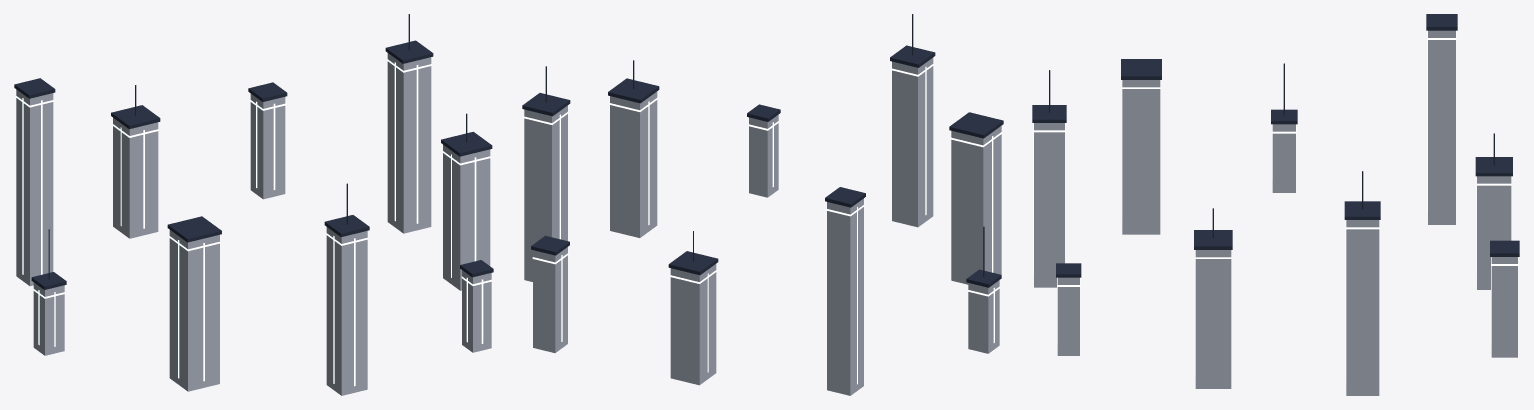
3 views of the same model, side by side, from view 1: azimuth 30°, elevation 25°; view 2: azimuth 150°, elevation 25°; view 3: azimuth 270°, elevation 25° (orthographic). The views are drawn at different scales.
Visible parts, largest first — view 1: nexo_spires_frontera.lod0; view 2: nexo_spires_frontera.lod0; view 3: nexo_spires_frontera.lod0.
Part boxes in pixels (x1,y1,x2,y2): nexo_spires_frontera.lod0: [14, 14, 493, 395]; nexo_spires_frontera.lod0: [522, 14, 1003, 395]; nexo_spires_frontera.lod0: [1032, 14, 1519, 395].
Bounding box in the file's own units: 25.99 × 12.3 × 24.95.
